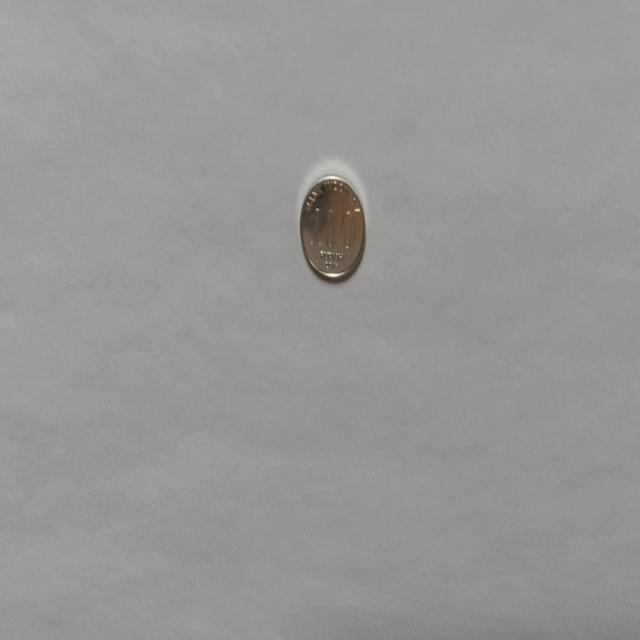seratus rupiah: (298, 172, 366, 282)
